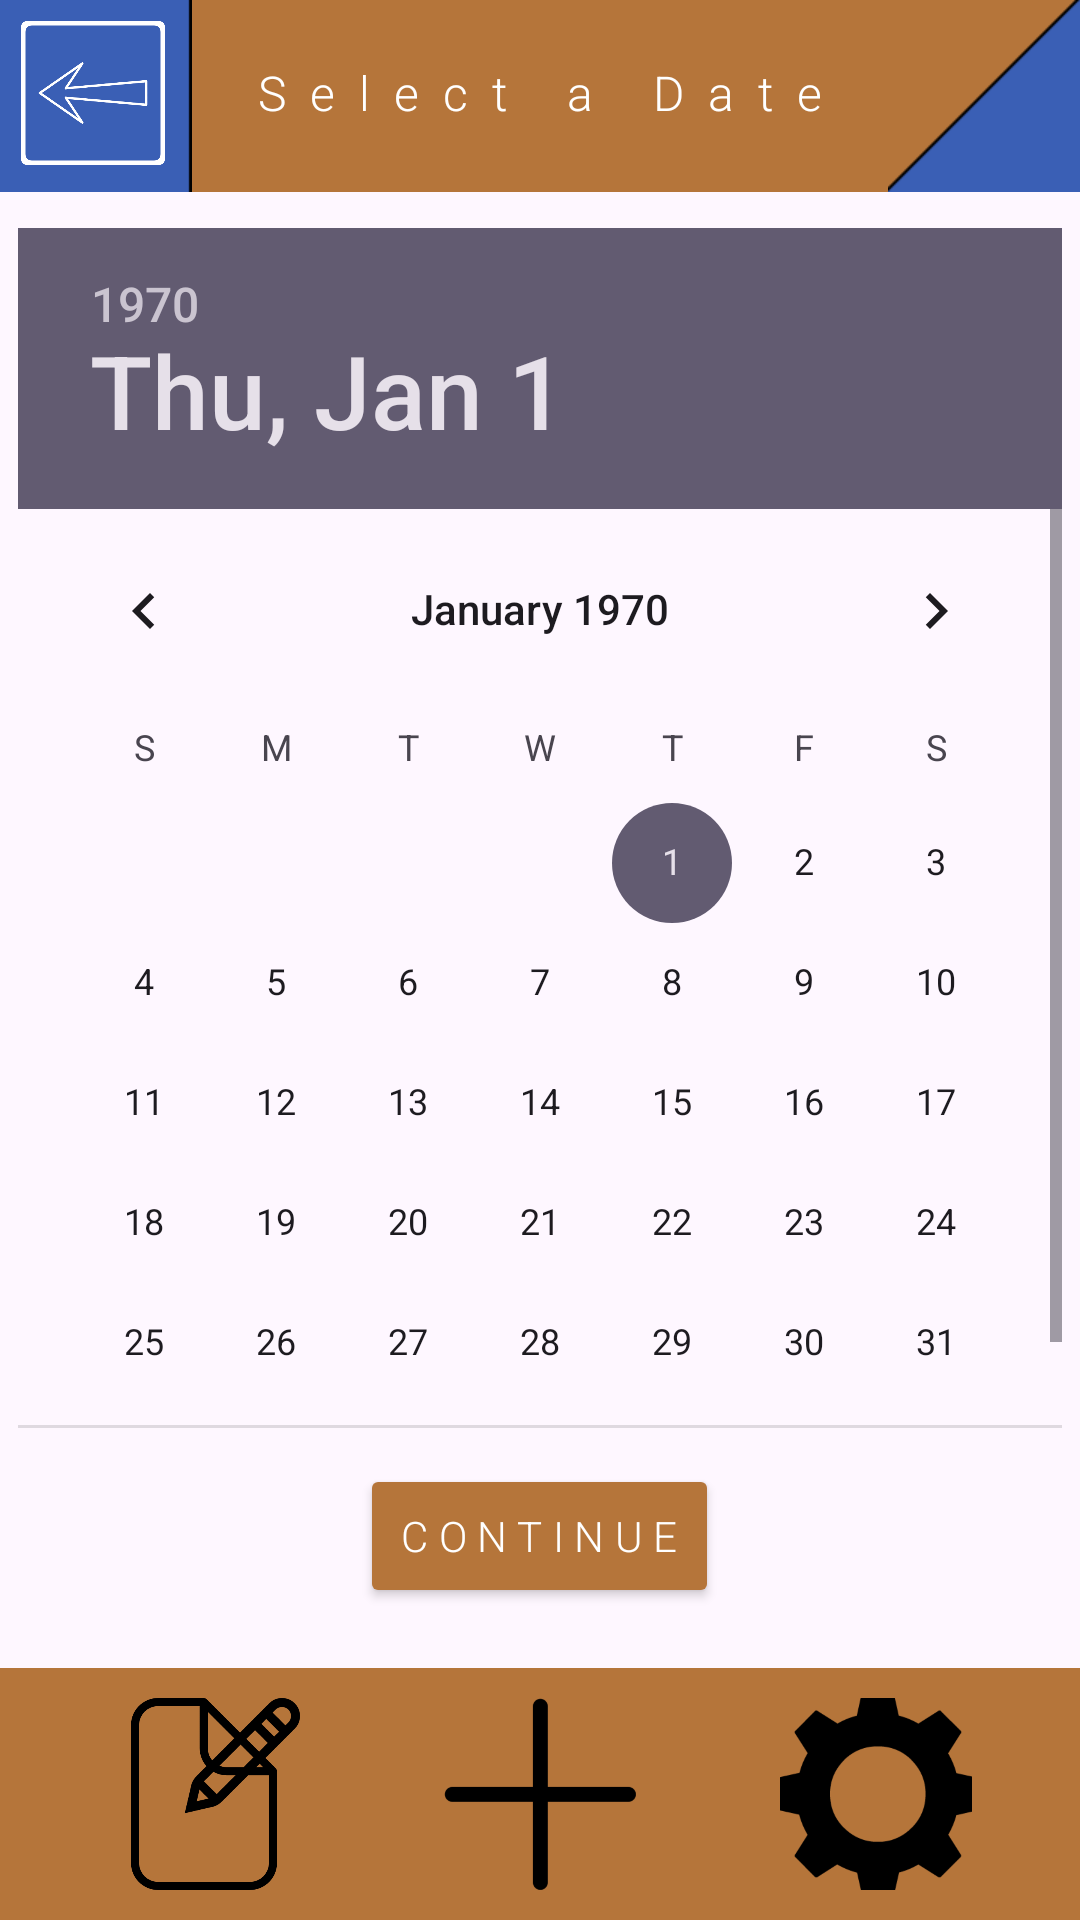

Icon click points for this 1080 × 1920 phone screenshot, format point (x, y):
create booking: point (540, 1794)
settings: point (876, 1794)
